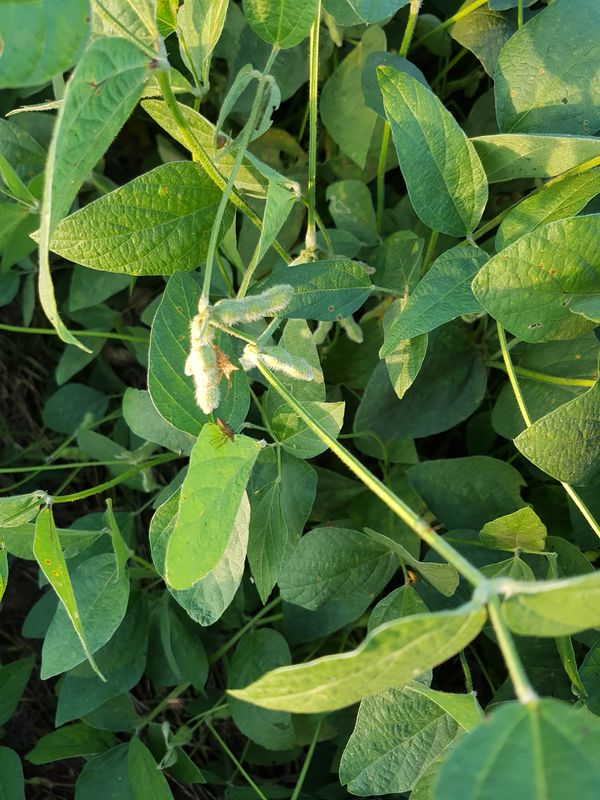Euschistus_heros_adulto: (200, 338, 245, 396), (203, 414, 244, 453)
Gastropoda: (208, 129, 234, 154)
